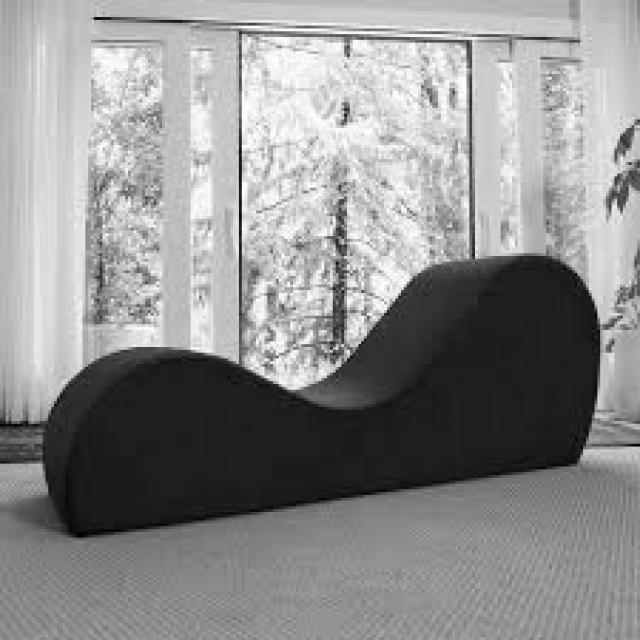chair: (41, 251, 609, 538)
